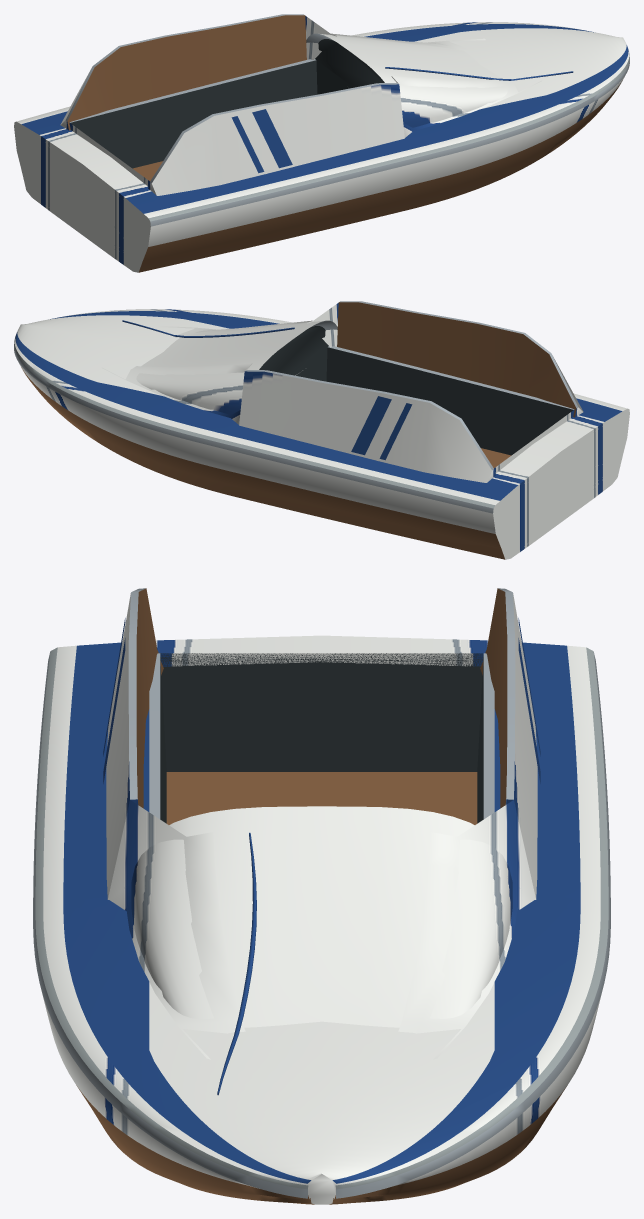
Rendered from Hull_06_N_青艇・銀引.glb.
3 views of the same model, one above another, from view 1: azimuth 30°, elevation 25°; view 2: azimuth 150°, elevation 25°; view 3: azimuth 270°, elevation 25° (orthographic). The views are drawn at different scales.
Parts seen in each view (by area): view 1: Hull_06_N; view 2: Hull_06_N; view 3: Hull_06_N.
Part boxes in pixels (left/top/right/bottom): Hull_06_N: left=14, top=14, right=629, bottom=272; Hull_06_N: left=14, top=301, right=629, bottom=559; Hull_06_N: left=33, top=588, right=610, bottom=1204.
Size of the model in its own units: 2.9 by 0.6856 by 1.34.
4 materials, 4 textured.
